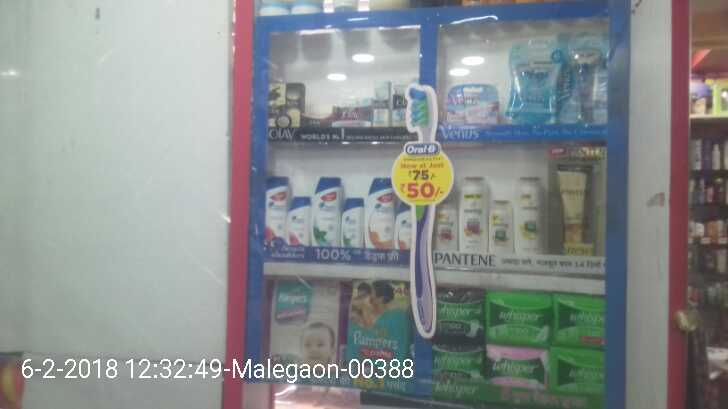venus: (557, 33, 607, 125), (510, 41, 557, 124), (446, 85, 495, 124)
